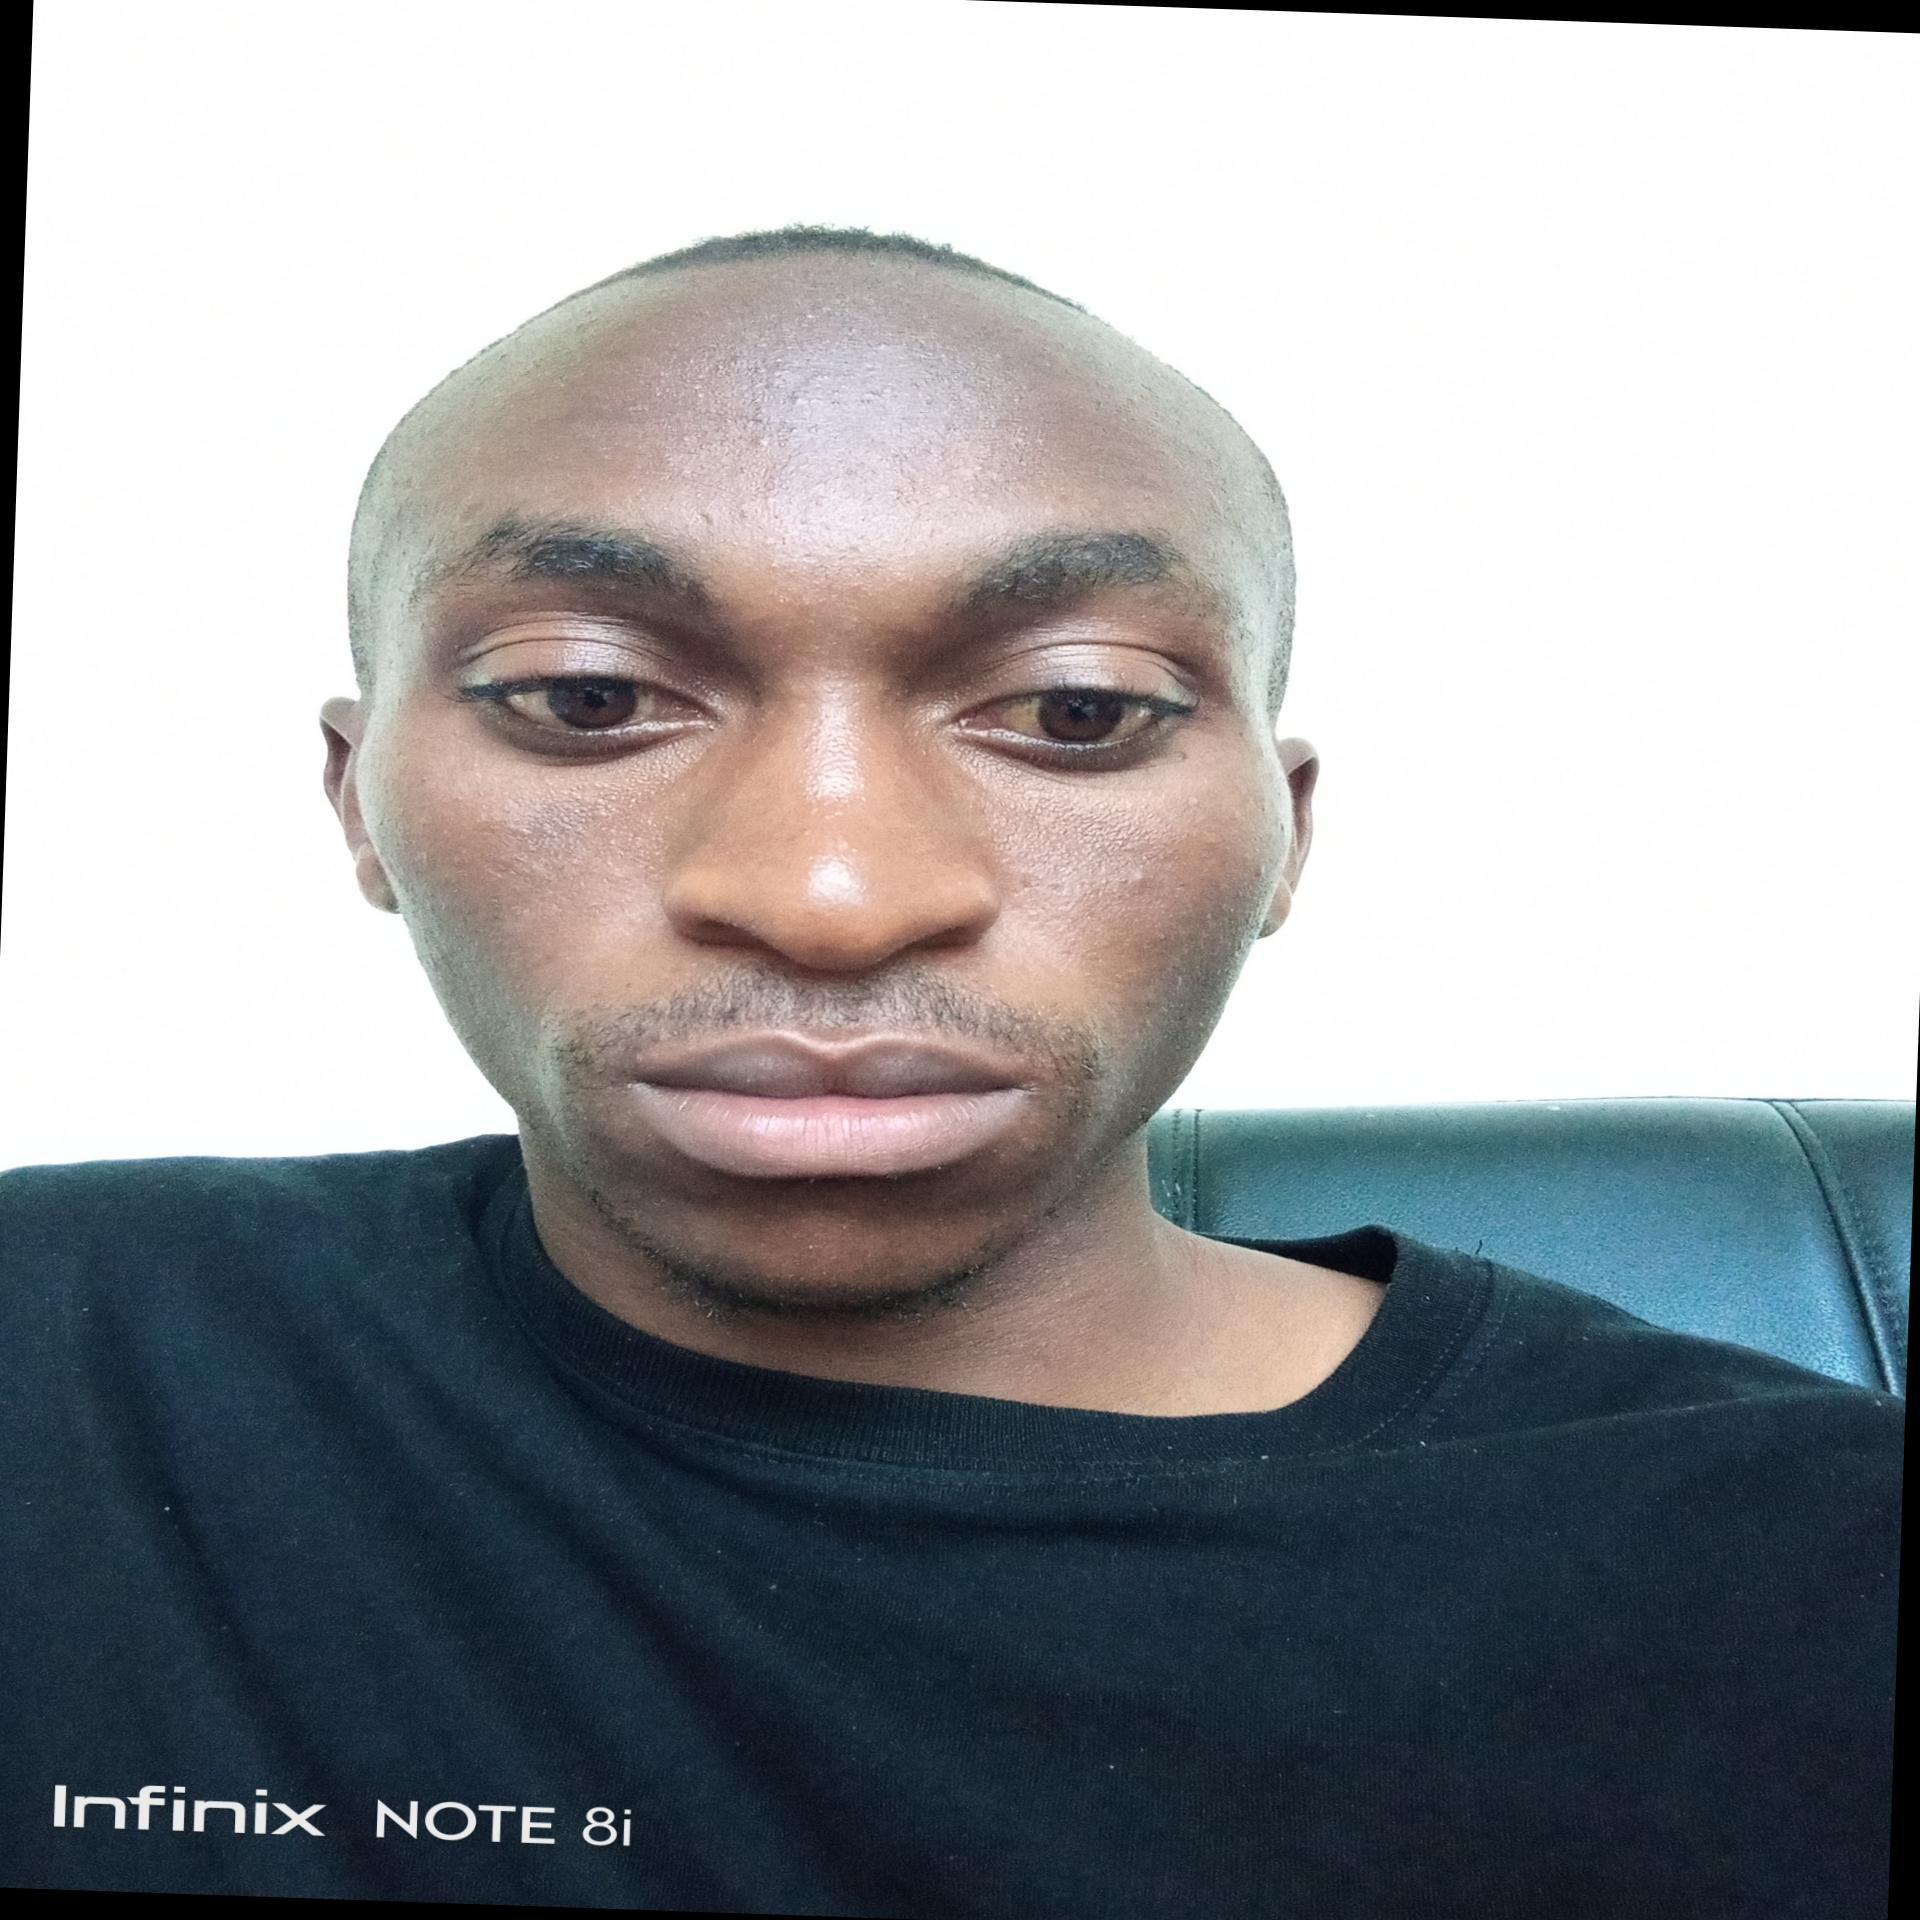Acne: (855, 383, 900, 406), (1120, 865, 1157, 890), (742, 431, 777, 452), (1167, 747, 1196, 765), (1247, 862, 1271, 881), (788, 390, 809, 404)
Englarged Pores: (988, 791, 1183, 883), (506, 777, 654, 870)
